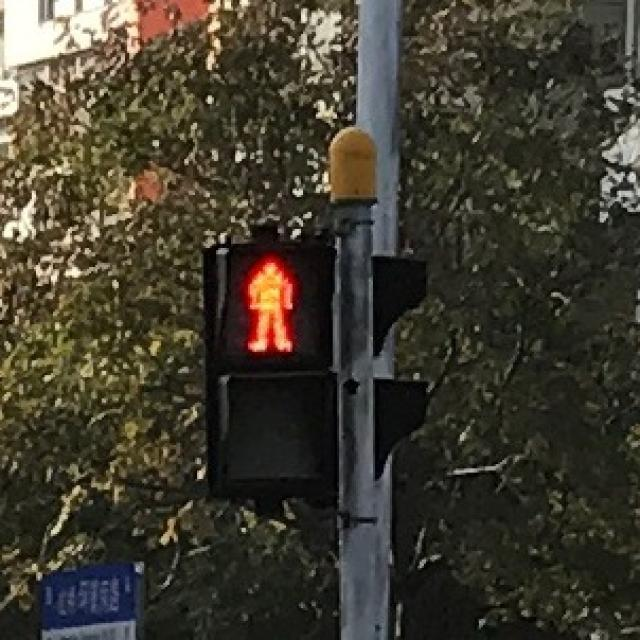red-crossing: (217, 240, 316, 362)
